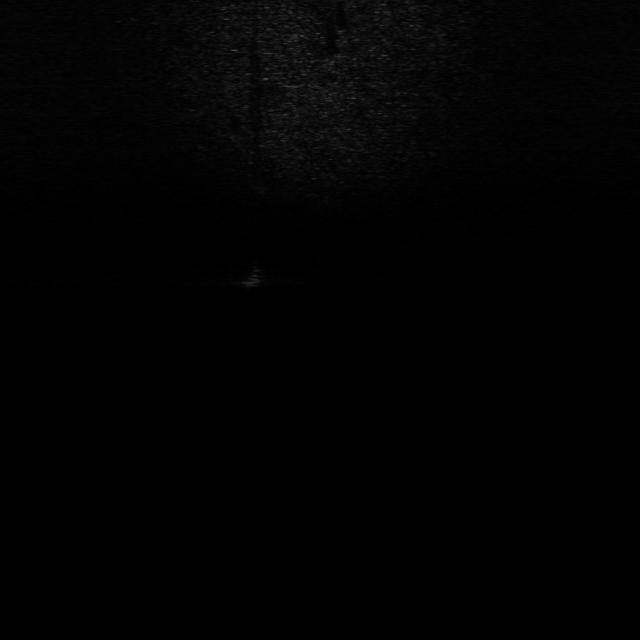human body: (237, 246, 269, 293)
